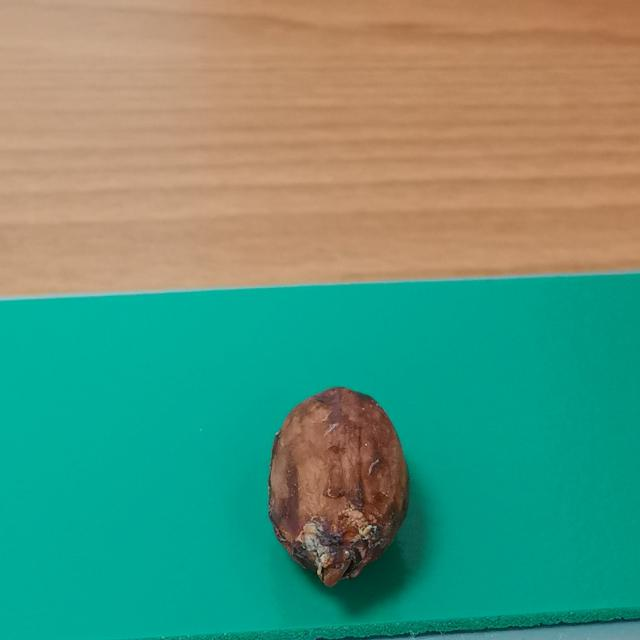Fine_cocoabeans: (221, 330, 530, 640)
